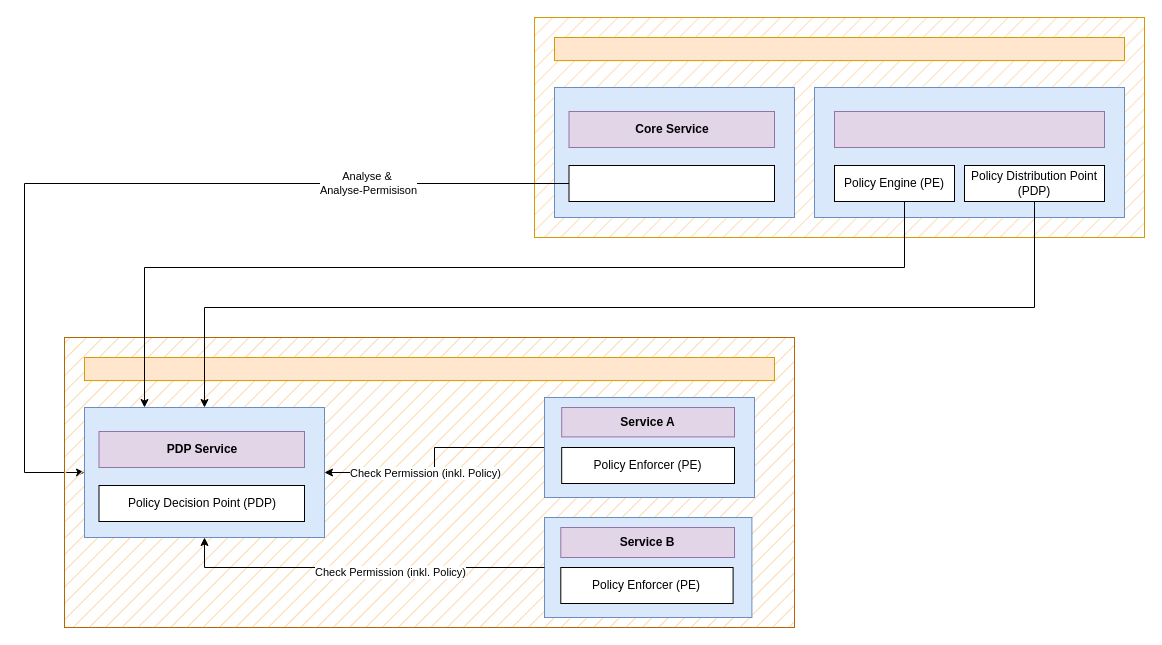
Some shapes in this 1162 by 645 pixel diagram are drawn without their labels. The shapes that lost their labels are listed below. From the top down, each one's box as (x1, y1, x2, y2) in pixels, then its label:
(554, 36, 1124, 61): HUB
(834, 110, 1104, 148): Auth Service
(568, 164, 774, 202): Policy Information Point (PIP)
(84, 356, 774, 381): NODE
